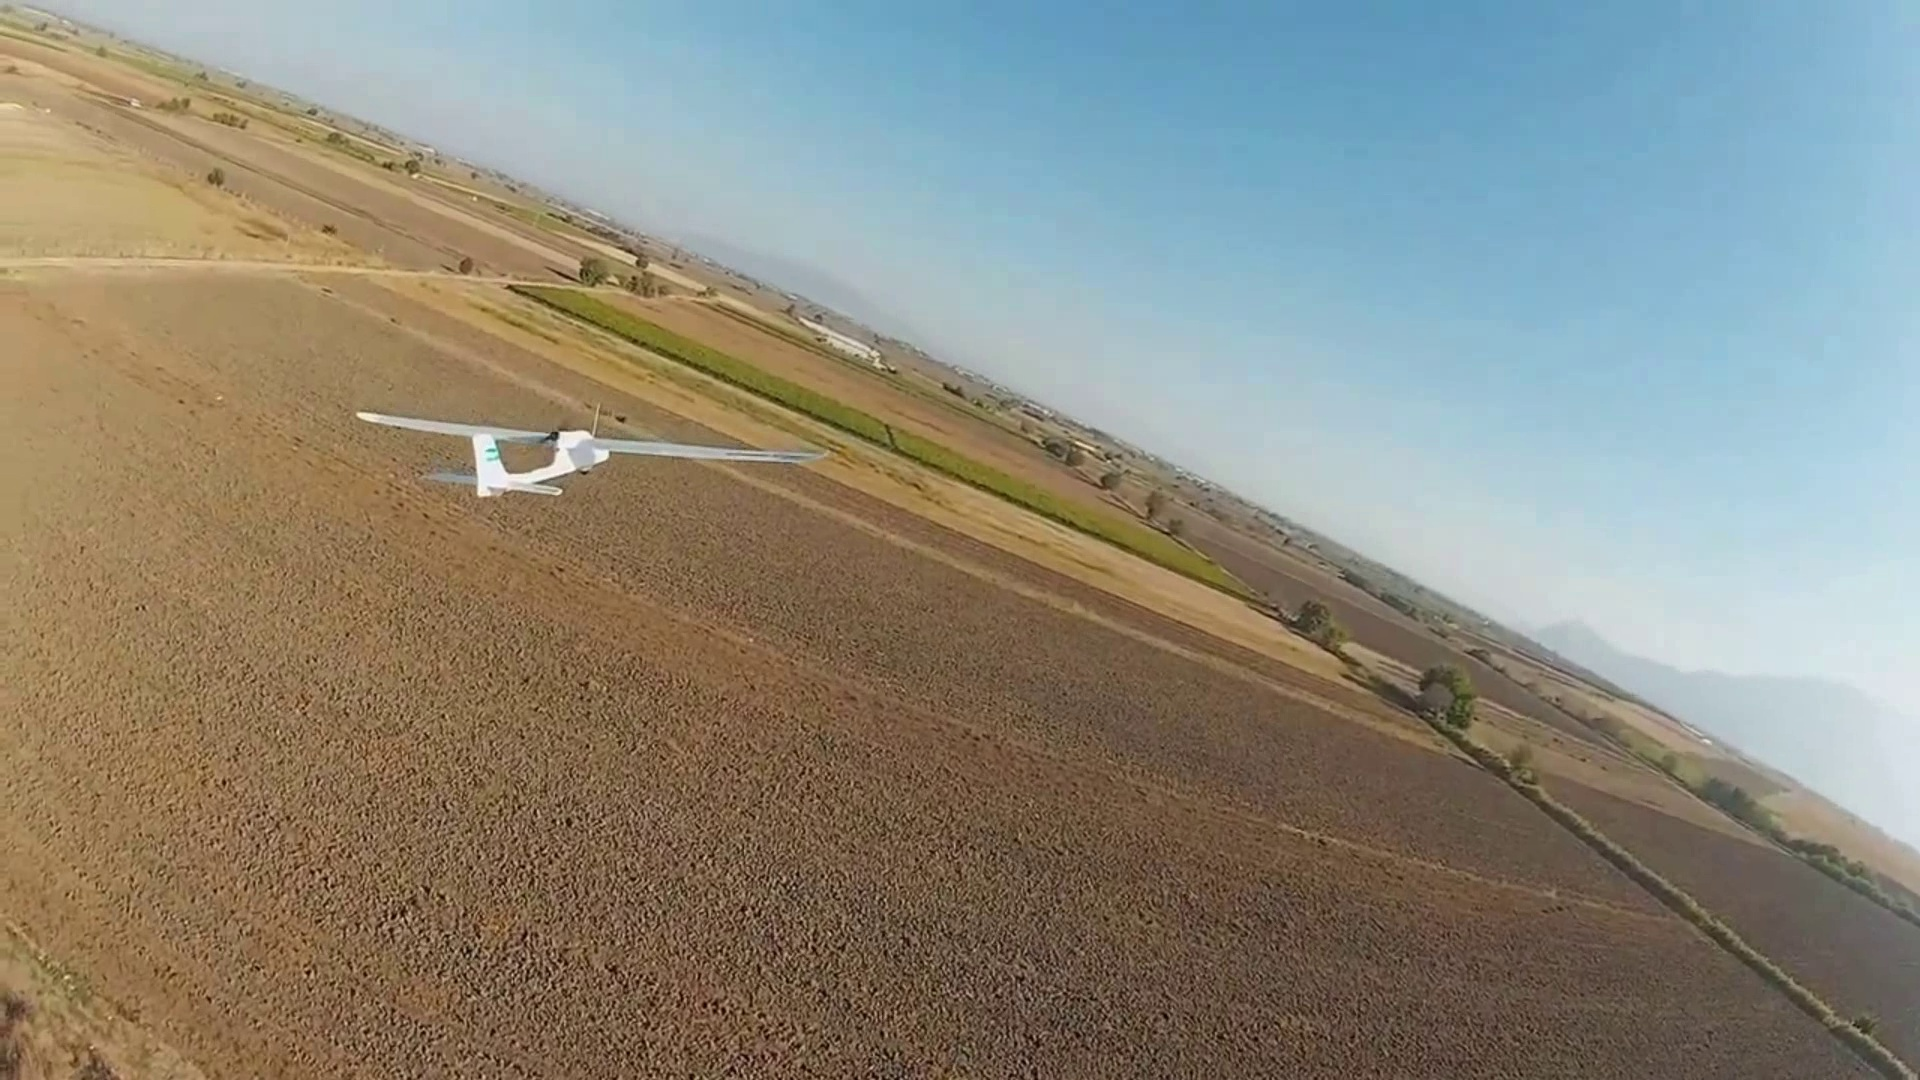airplane: (357, 411, 613, 494)
